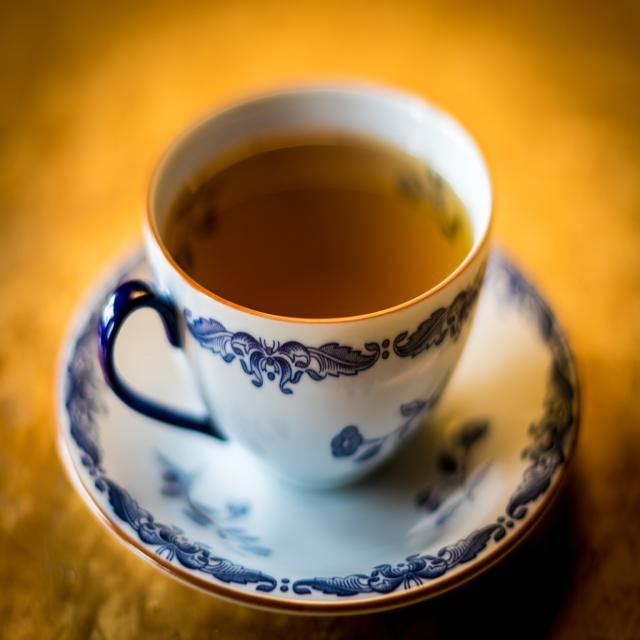Tea: (166, 136, 472, 316)
